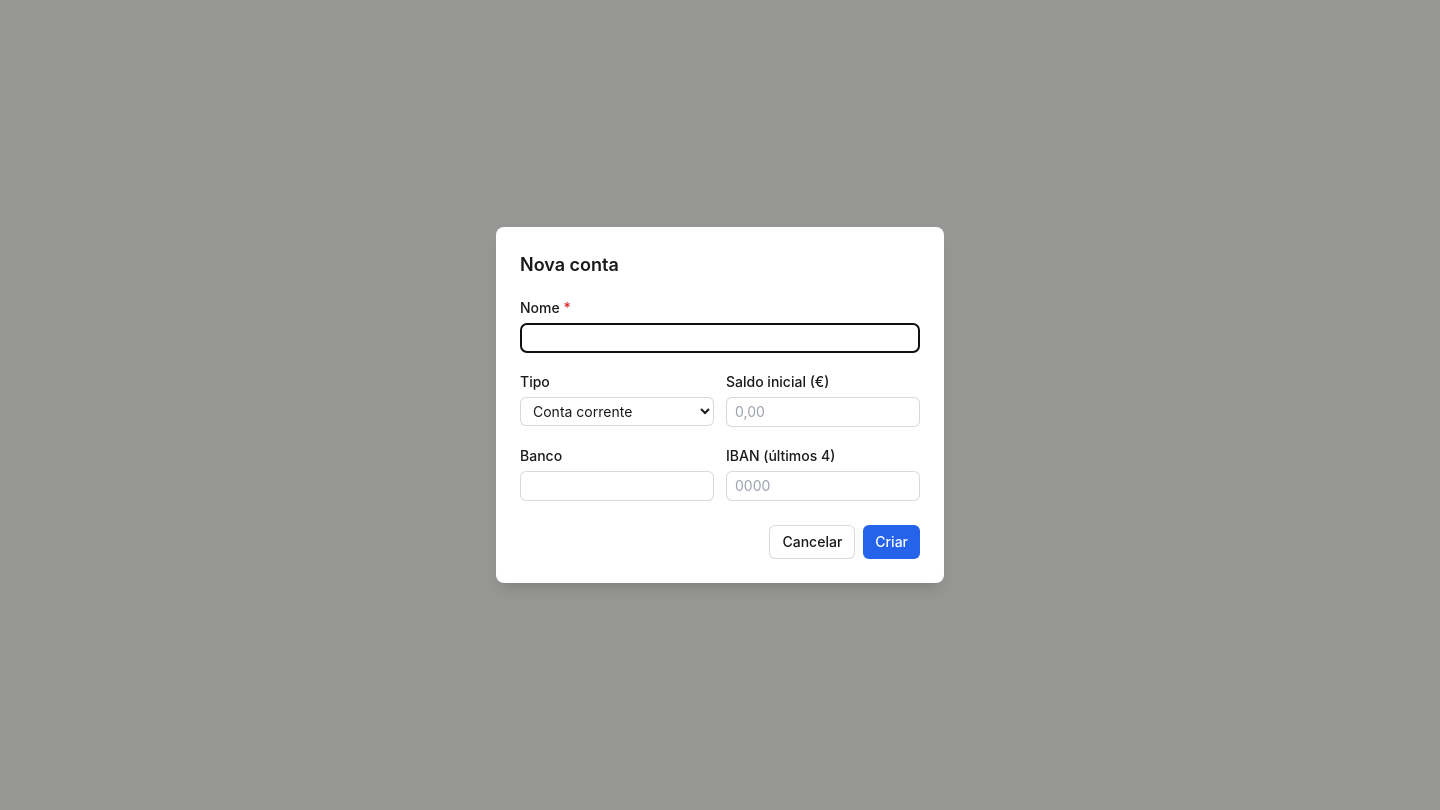
Scenario: <NewAccountModal> › erro do servidor mostra alerta e não fecha
In the field named "Nome da conta": (720, 338) x1=520 y1=323 x2=920 y2=353, type "CGD"
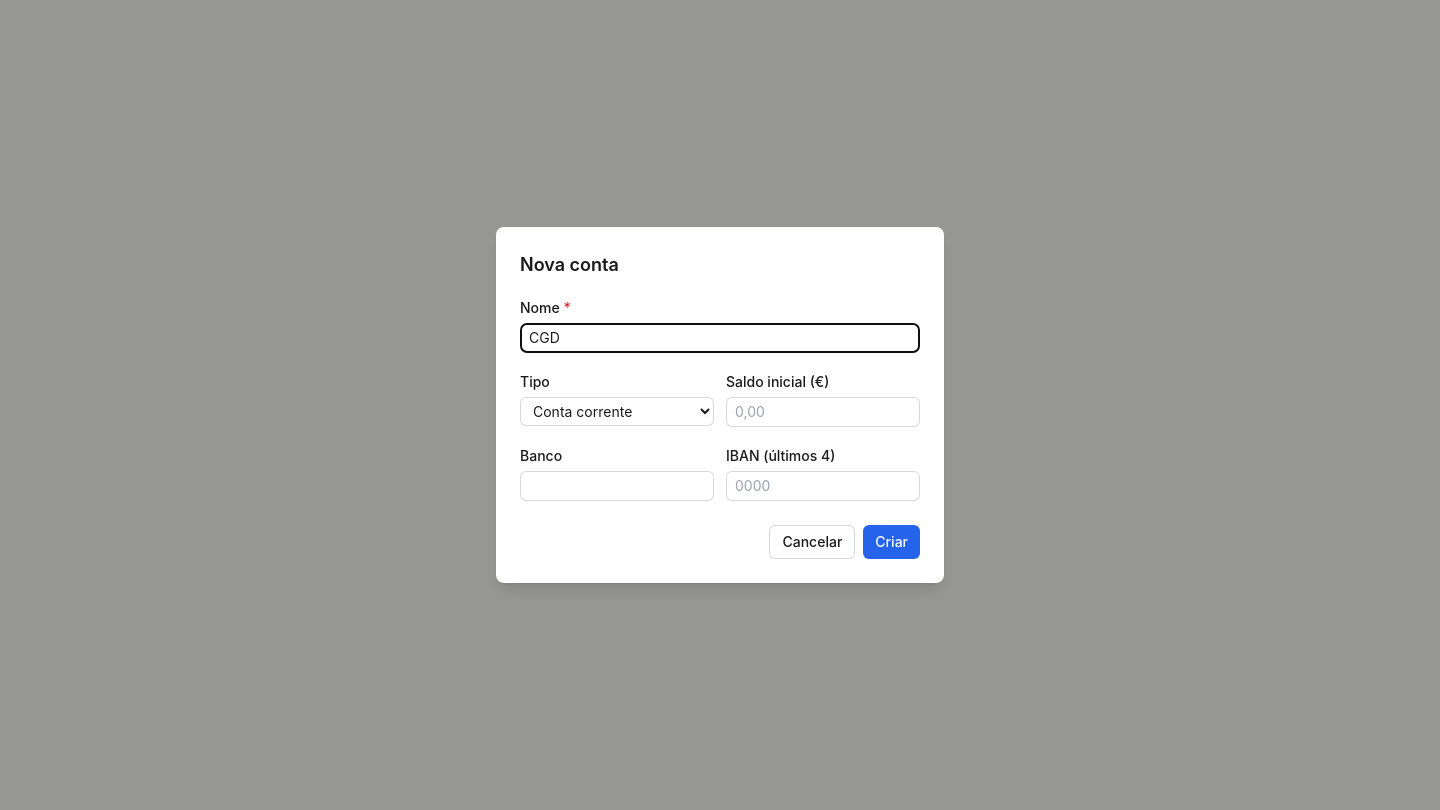
Click the button "Criar": (892, 542) x1=863 y1=525 x2=920 y2=559
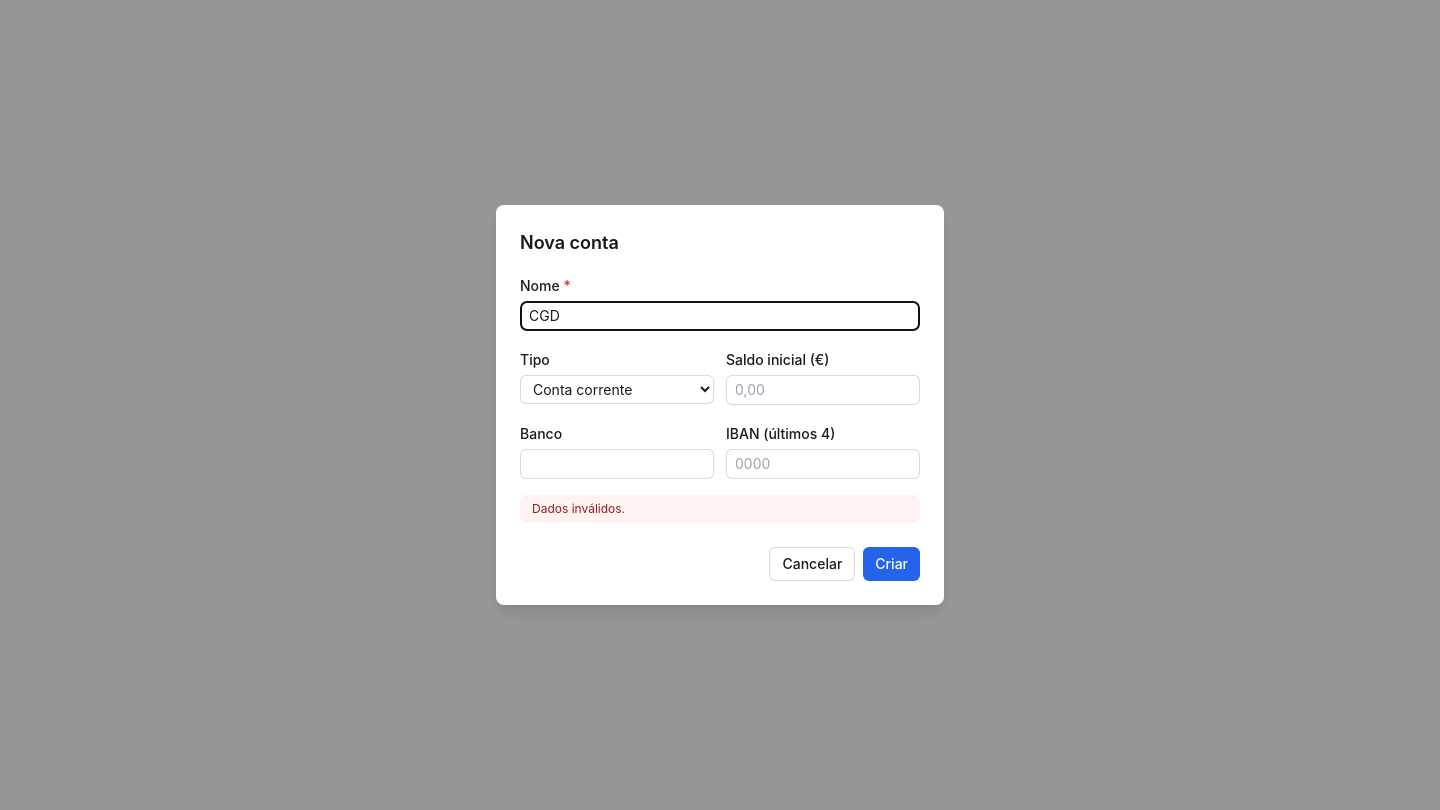
Result: the message reads "Dados inválidos." at x1=532 y1=501 x2=625 y2=516
